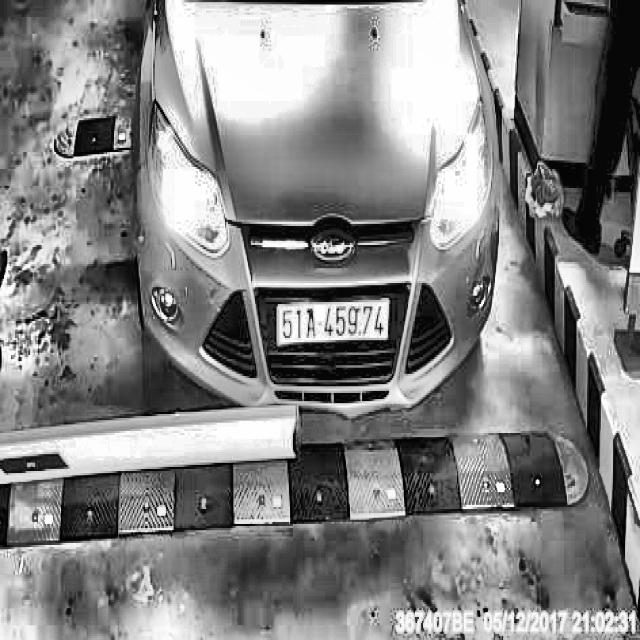plate: (274, 295, 392, 349)
